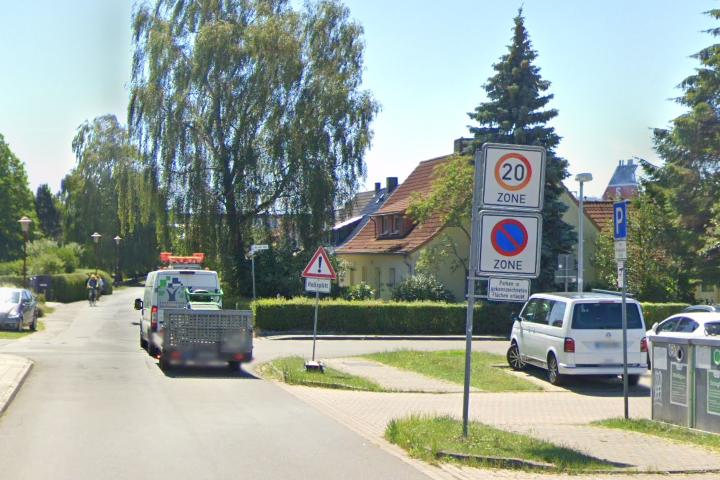traffic_sign: (493, 151, 534, 193), (490, 217, 529, 258), (300, 245, 337, 279), (612, 202, 628, 242)
vehicle: (503, 287, 653, 392), (131, 263, 228, 361)
